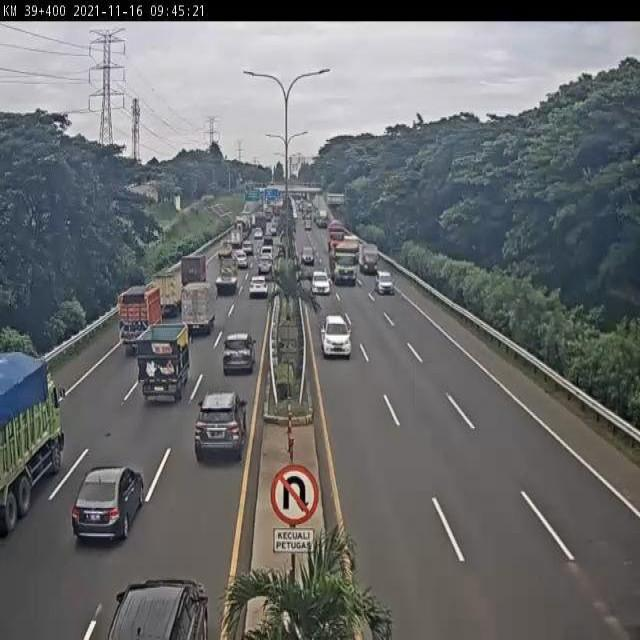car: (71, 465, 145, 539), (195, 391, 248, 460), (320, 313, 351, 360), (222, 331, 256, 372), (374, 270, 395, 298), (310, 269, 331, 296), (249, 276, 270, 299), (232, 249, 249, 271), (258, 257, 273, 276)
small truck: (180, 281, 212, 339), (149, 269, 182, 315), (179, 252, 207, 285), (214, 258, 239, 294), (217, 236, 234, 260)
truck-l-: (330, 236, 359, 284)
truck-m-: (134, 327, 190, 404), (118, 282, 160, 346)
